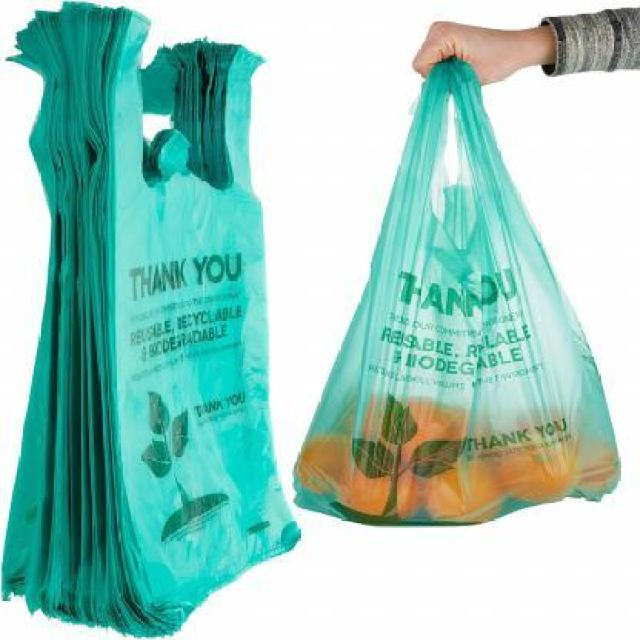plastic bag: (6, 0, 301, 639), (303, 56, 637, 566)
